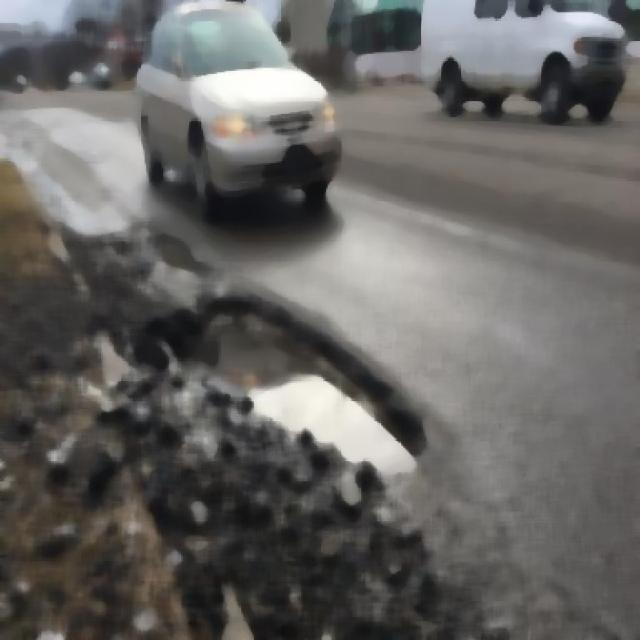Pothole: (210, 317, 421, 468)
